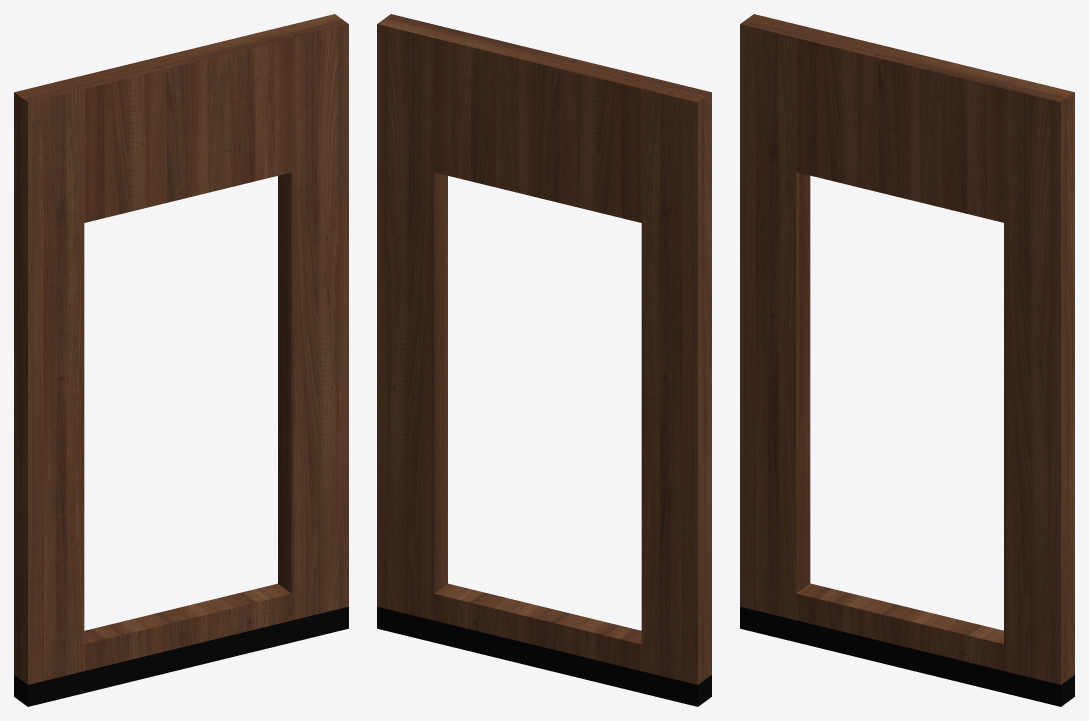
The model's file is ARC0210046.fbx.
3 renders of one model, left to right at view 1: azimuth 30°, elevation 25°; view 2: azimuth 150°, elevation 25°; view 3: azimuth 330°, elevation 25°, orthographic.
Visible parts, largest first — view 1: smARC0210046; view 2: smARC0210046; view 3: smARC0210046.
Part boxes in pixels (<box>): smARC0210046: <box>14,14,348,706</box>; smARC0210046: <box>377,14,711,706</box>; smARC0210046: <box>740,14,1074,706</box>.
Bounding box in the file's own units: 182 × 328 × 13.67.
1 material, 1 textured.
